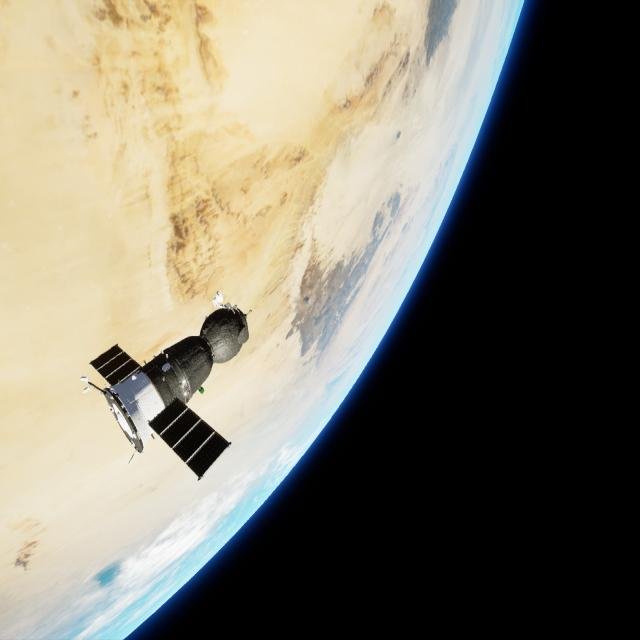Satellites revolving around earth: (2, 1, 526, 638), (79, 296, 253, 482)
